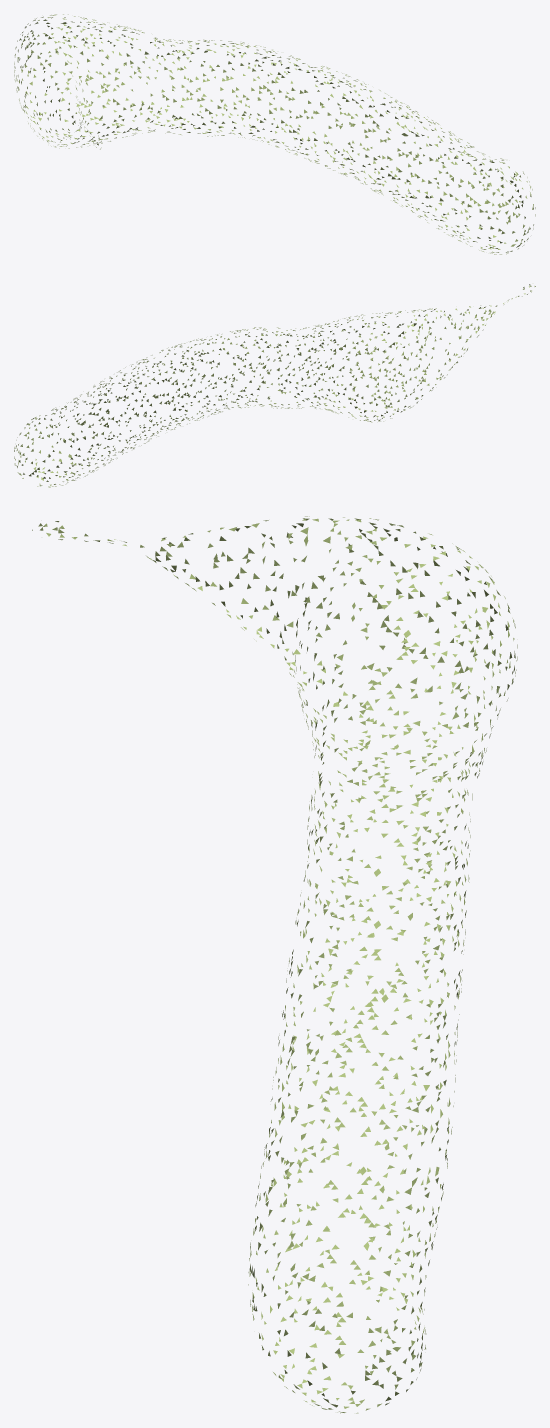
File: morph_011.glb
3 renders of one model, top to bottom at view 1: azimuth 30°, elevation 25°; view 2: azimuth 150°, elevation 25°; view 3: azimuth 270°, elevation 25°, orthographic. The views are drawn at different scales.
Size of the model in its own units: 101 by 59.26 by 49.16.
